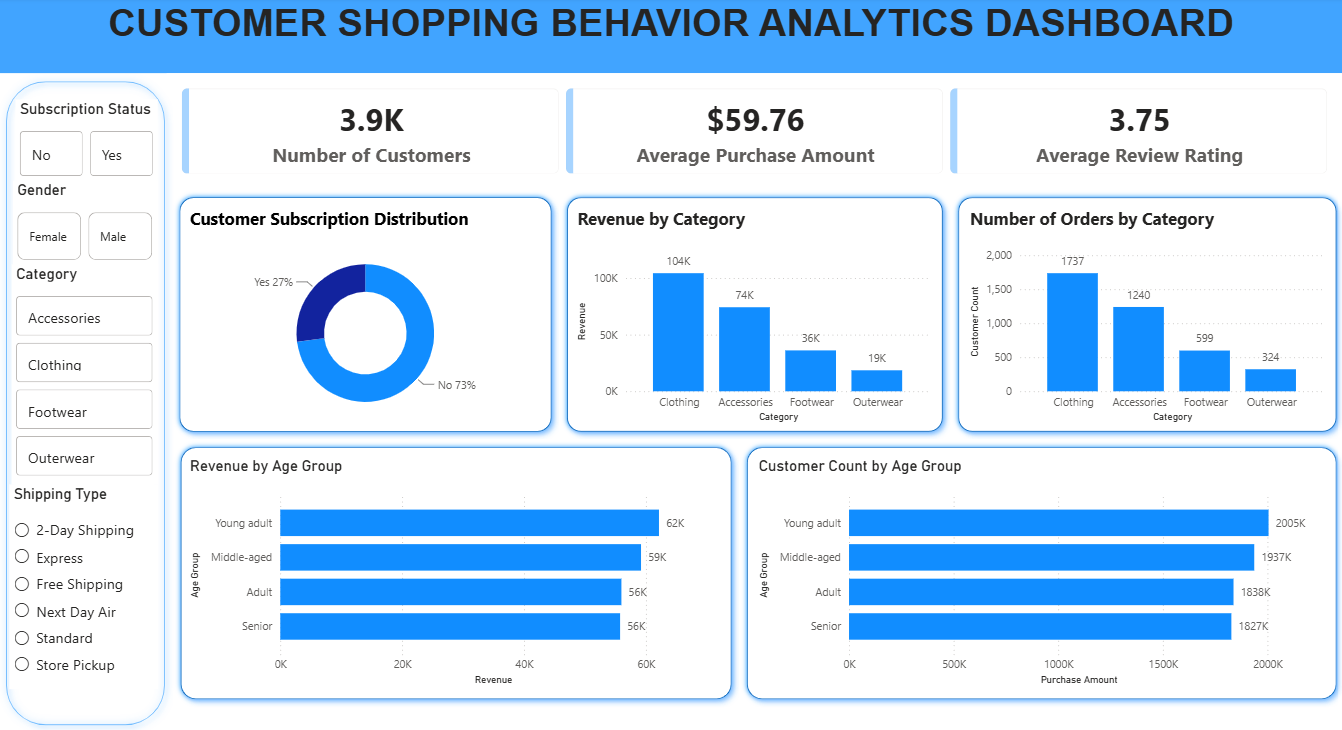

Layout of this report page (visuals, bound fields, positions):
{"tool":"powerbi","page":{"name":"Page 1","canvas":[1500,820],"ordinal":0},"visuals":[{"type":"textbox","box":[0,0,1499.9,85],"z":0},{"type":"cardVisual","fields":{"Data":["customer_shopping_behavior_cleaned.Number of Customers","customer_shopping_behavior_cleaned.Average Purchase Amount","customer_shopping_behavior_cleaned.Average Review Rating"]},"box":[188,85,1311.9,129.5],"z":1000},{"type":"shape","box":[193.6,214.5,431.7,278.5],"z":2000},{"type":"donutChart","title":"Customer Subscription Distribution","fields":{"Category":["customer_shopping_behavior_cleaned.subscription_status"],"Y":["CountNonNull(customer_shopping_behavior_cleaned.customer_id)"]},"box":[208.9,234,401.1,245.1],"z":3000},{"type":"shape","box":[1061.2,214.5,438.7,278.5],"z":4000},{"type":"shape","box":[625.3,214.5,435.9,278.5],"z":5000},{"type":"columnChart","title":"Revenue by Category","fields":{"Category":["customer_shopping_behavior_cleaned.category"],"Y":["Sum(customer_shopping_behavior_cleaned.purchase_amount)"]},"box":[640.6,234,403.9,245.1],"z":6000},{"type":"columnChart","title":"Number of Orders by Category","fields":{"Category":["customer_shopping_behavior_cleaned.category"],"Y":["CountNonNull(customer_shopping_behavior_cleaned.customer_id)"]},"box":[1077.9,234,405.3,245.1],"z":7000},{"type":"shape","box":[195,493,630.9,298],"z":8000},{"type":"barChart","fields":{"Category":["customer_shopping_behavior_cleaned.age_group"],"Y":["Sum(customer_shopping_behavior_cleaned.purchase_amount)"]},"box":[208.9,512.5,596.1,259],"z":9000},{"type":"shape","box":[825.9,493,674.1,298],"z":10000},{"type":"barChart","title":"Customer Count by Age Group","fields":{"Category":["customer_shopping_behavior_cleaned.age_group"],"Y":["Sum(customer_shopping_behavior_cleaned.customer_id)"]},"box":[842.6,512.5,640.6,259],"z":11000},{"type":"shape","box":[0,85,195,735.3],"z":12000},{"type":"advancedSlicerVisual","fields":{"Values":["customer_shopping_behavior_cleaned.subscription_status"]},"box":[19.5,114.2,158.8,90.5],"z":13000},{"type":"advancedSlicerVisual","fields":{"Values":["customer_shopping_behavior_cleaned.gender"]},"box":[16.7,204.7,161.5,93.3],"z":14000},{"type":"advancedSlicerVisual","fields":{"Values":["customer_shopping_behavior_cleaned.category"]},"box":[15.3,298,162.9,245.1],"z":15000},{"type":"listSlicer","fields":{"Values":["customer_shopping_behavior_cleaned.shipping_type"]},"box":[12.5,543.1,165.7,228.4],"z":16000}]}

Visuals, with their boxes in screenshot pixels (x1, y1, x2, y2), scaled from the page's 1500x820 canvas onto the 1342x730 screenshot:
textbox: l=0, t=0, r=1341, b=76
cardVisual - customer_shopping_behavior_cleaned.Number of Customers x customer_shopping_behavior_cleaned.Average Purchase Amount: l=168, t=76, r=1341, b=191
shape: l=173, t=191, r=559, b=439
"Customer Subscription Distribution" donutChart: l=187, t=208, r=546, b=427
shape: l=949, t=191, r=1341, b=439
shape: l=559, t=191, r=949, b=439
"Revenue by Category" columnChart: l=573, t=208, r=934, b=427
"Number of Orders by Category" columnChart: l=964, t=208, r=1327, b=427
shape: l=174, t=439, r=739, b=704
barChart - customer_shopping_behavior_cleaned.age_group x Sum(customer_shopping_behavior_cleaned.purchase_amount): l=187, t=456, r=720, b=687
shape: l=739, t=439, r=1341, b=704
"Customer Count by Age Group" barChart: l=754, t=456, r=1327, b=687
shape: l=0, t=76, r=174, b=729
advancedSlicerVisual - customer_shopping_behavior_cleaned.subscription_status: l=17, t=102, r=160, b=182
advancedSlicerVisual - customer_shopping_behavior_cleaned.gender: l=15, t=182, r=159, b=265
advancedSlicerVisual - customer_shopping_behavior_cleaned.category: l=14, t=265, r=159, b=483
listSlicer - customer_shopping_behavior_cleaned.shipping_type: l=11, t=483, r=159, b=687
